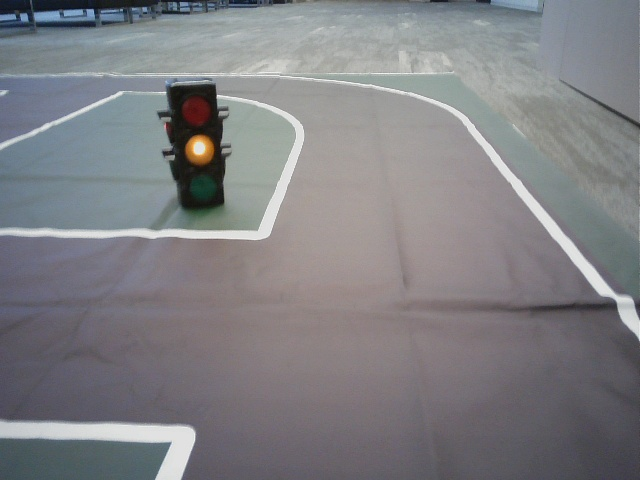yellow: (175, 90, 219, 203)
